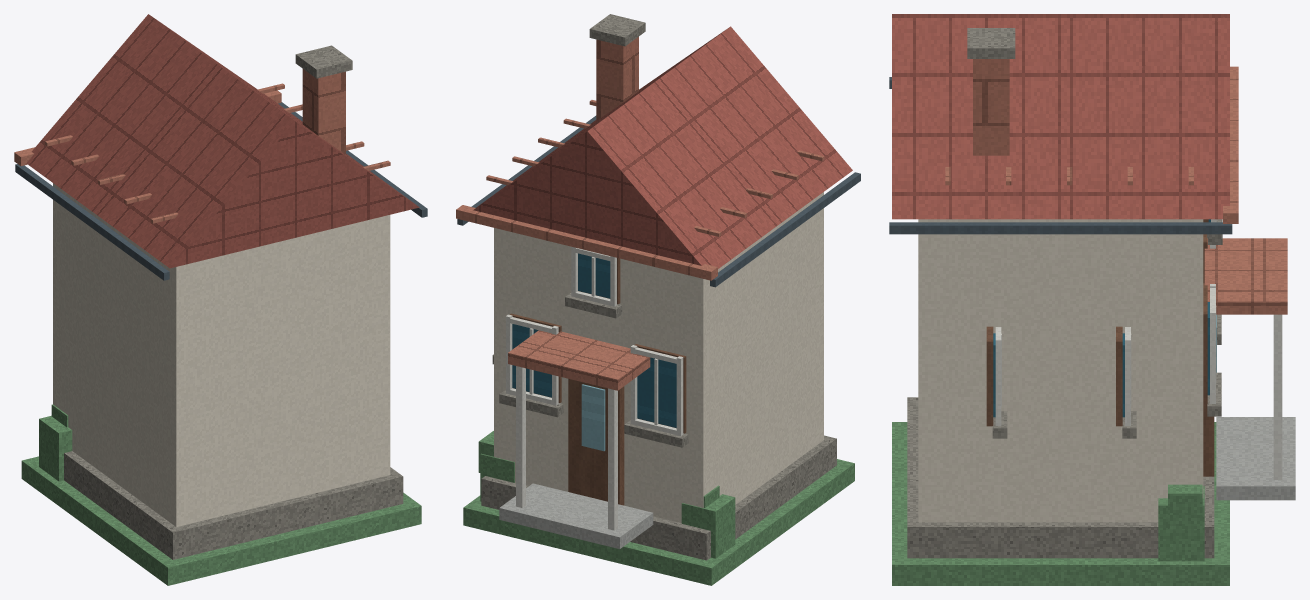
Rendered from villa_house.gltf.
The picture shows the model from 3 angles, left to right: view 1: azimuth 30°, elevation 25°; view 2: azimuth 150°, elevation 25°; view 3: azimuth 270°, elevation 25°; orthographic projection. The views are drawn at different scales.
Visible parts, largest first — view 1: villa_root; view 2: villa_root; view 3: villa_root.
Boxes of the visible parts, left/top/right/bottom form: villa_root: left=14, top=14, right=427, bottom=585; villa_root: left=456, top=14, right=860, bottom=585; villa_root: left=889, top=14, right=1295, bottom=585.
Bounding box in the file's own units: 3.72 × 5.91 × 4.21.
Materials: 12 (12 with a texture image).
